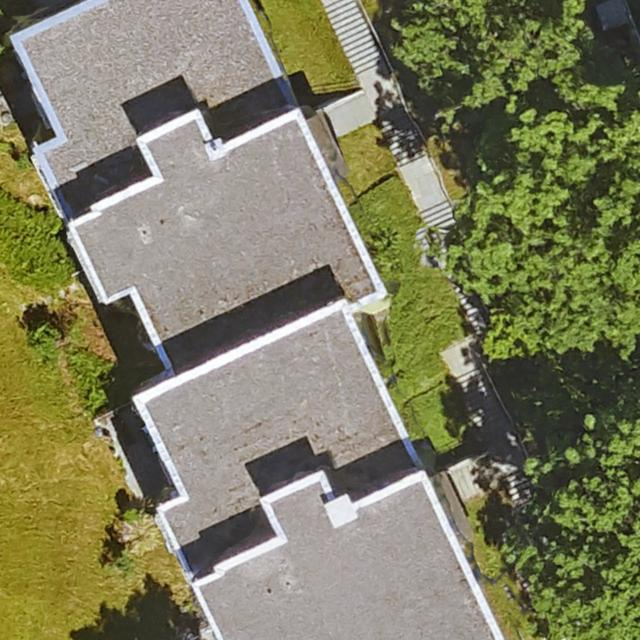tree: (451, 84, 640, 359), (498, 413, 640, 640), (409, 0, 587, 128)
